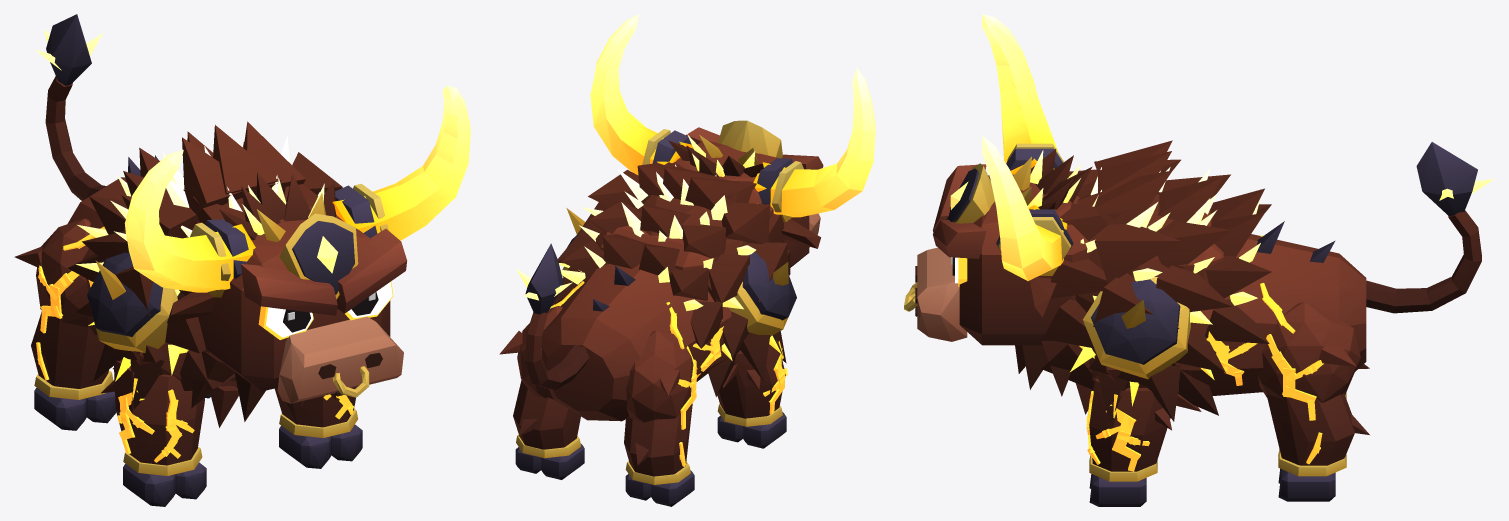
Rendered from EmberBull.glb.
3 views of the same model, side by side, from view 1: azimuth 30°, elevation 25°; view 2: azimuth 150°, elevation 25°; view 3: azimuth 270°, elevation 25° (orthographic). The views are drawn at different scales.
Parts seen in each view (by area): view 1: EmberBull; view 2: EmberBull; view 3: EmberBull.
Boxes of the visible parts, x1,y1,x2,y2 form: EmberBull: (14,14,470,506); EmberBull: (499,14,875,506); EmberBull: (904,14,1494,506).
Size of the model in its own units: 0.9661 by 1.1 by 1.53.
Materials: 1 (1 with a texture image).
